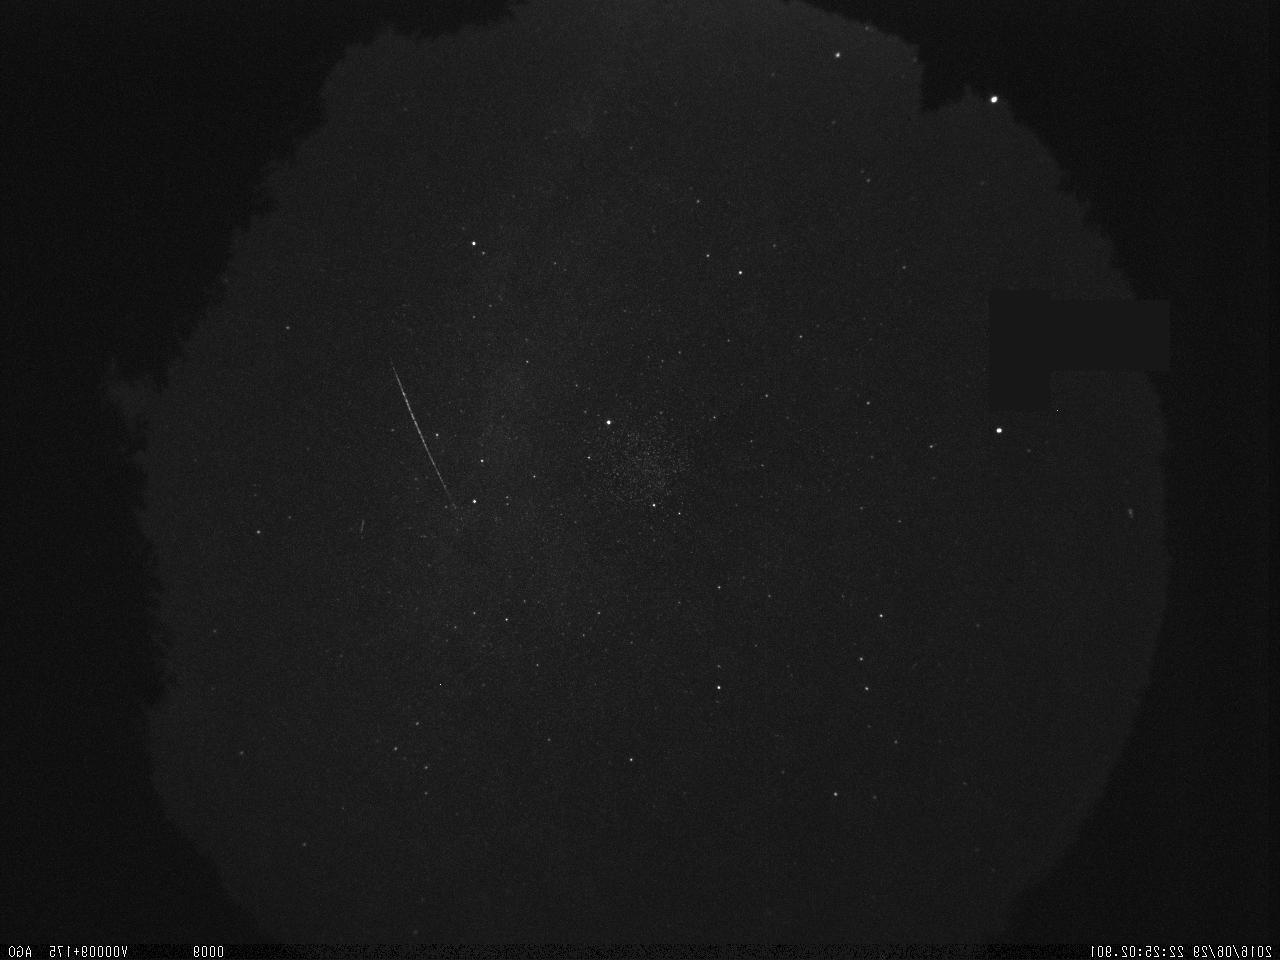meteor: (378, 356, 476, 522)
